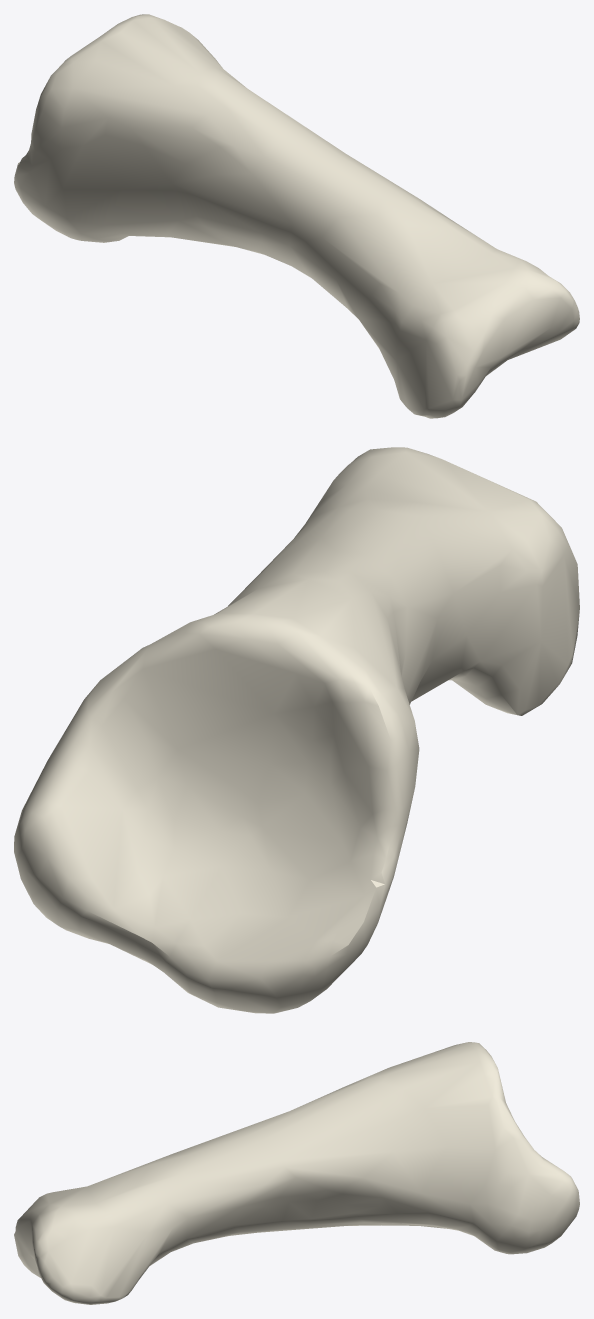
File: fma32637.glb
3 renders of one model, top to bottom at view 1: azimuth 30°, elevation 25°; view 2: azimuth 150°, elevation 25°; view 3: azimuth 270°, elevation 25°, orthographic. The views are drawn at different scales.
Parts seen in each view (by area): view 1: FMA32637; view 2: FMA32637; view 3: FMA32637.
Boxes of the visible parts, x1,y1,x2,y2 form: FMA32637: (14, 14, 579, 418); FMA32637: (14, 447, 579, 1013); FMA32637: (14, 1042, 579, 1304).
Bounding box in the file's own units: 0.0159 × 0.0118 × 0.0292.
